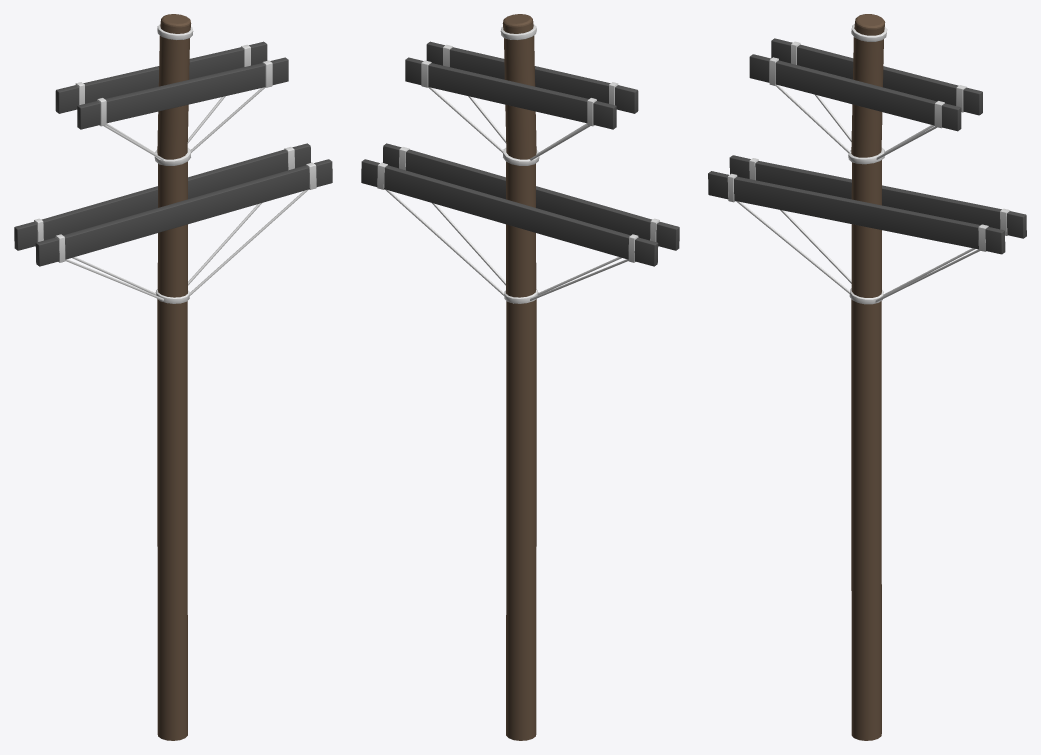
Rendered from Pole-M01A.fbx.
The picture shows the model from 3 angles, left to right: view 1: azimuth 30°, elevation 25°; view 2: azimuth 150°, elevation 25°; view 3: azimuth 330°, elevation 25°; orthographic projection.
Visible parts, largest first — view 1: Pole-M01A; view 2: Pole-M01A; view 3: Pole-M01A.
Part boxes in pixels (<box>): Pole-M01A: <box>14,14,332,740</box>; Pole-M01A: <box>361,14,679,740</box>; Pole-M01A: <box>708,14,1026,740</box>.
Bounding box in the file's own units: 410 × 953 × 61.64.
